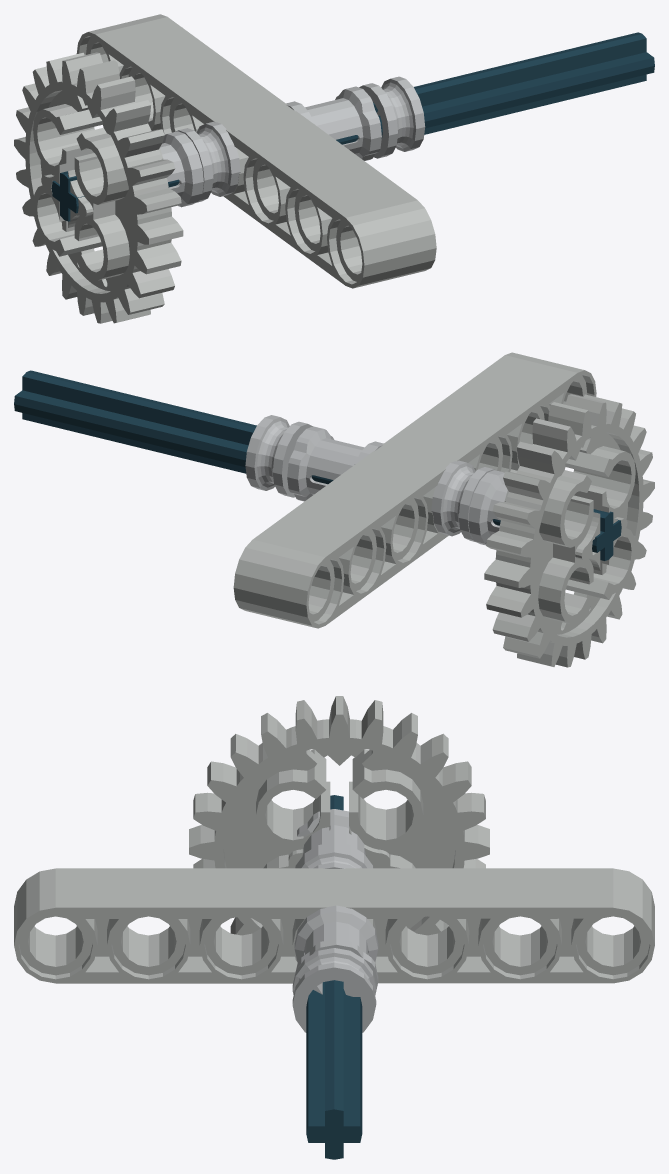
3 views of the same model, one above another, from view 1: azimuth 30°, elevation 25°; view 2: azimuth 150°, elevation 25°; view 3: azimuth 270°, elevation 25° (orthographic). The views are drawn at different scales.
Visible parts, largest first — view 1: Piece003, Piece000, Piece004, Piece002, Piece006, Piece005, Piece001; view 2: Piece003, Piece000, Piece004, Piece002, Piece006, Piece005, Piece001; view 3: Piece003, Piece000, Piece004, Piece006, Piece002, Piece001, Piece005.
Part boxes in pixels (x1=…): Piece003: x1=76, y1=14, x2=436, y2=288; Piece000: x1=14, y1=52, x2=183, y2=323; Piece004: x1=51, y1=32, x2=654, y2=221; Piece002: x1=286, y1=86, x2=381, y2=160; Piece006: x1=359, y1=76, x2=425, y2=158; Piece005: x1=176, y1=121, x2=240, y2=202; Piece001: x1=160, y1=131, x2=203, y2=207; Piece003: x1=233, y1=352, x2=596, y2=628; Piece000: x1=484, y1=394, x2=654, y2=667; Piece004: x1=14, y1=370, x2=621, y2=560; Piece002: x1=287, y1=426, x2=383, y2=501; Piece006: x1=245, y1=415, x2=312, y2=497; Piece005: x1=431, y1=460, x2=496, y2=541; Piece001: x1=468, y1=470, x2=507, y2=545; Piece003: x1=14, y1=868, x2=654, y2=983; Piece000: x1=189, y1=696, x2=489, y2=935; Piece004: x1=306, y1=795, x2=362, y2=1159; Piece006: x1=292, y1=948, x2=376, y2=1032; Piece002: x1=294, y1=905, x2=378, y2=995; Piece001: x1=295, y1=809, x2=373, y2=868; Piece005: x1=298, y1=847, x2=370, y2=868.
Size of the model in its own units: 160 by 64.79 by 138.
